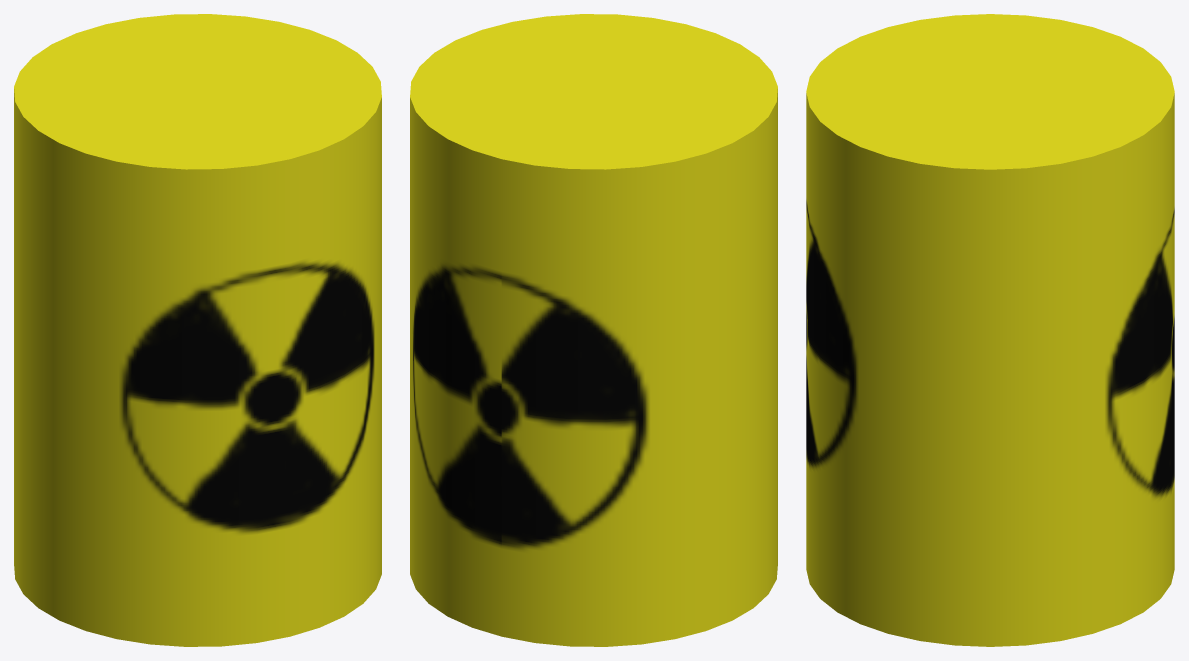
The model's file is hazardous_obj.fbx.
3 views of the same model, side by side, from view 1: azimuth 30°, elevation 25°; view 2: azimuth 150°, elevation 25°; view 3: azimuth 270°, elevation 25° (orthographic).
Parts seen in each view (by area): view 1: Cylinder; view 2: Cylinder; view 3: Cylinder.
Boxes of the visible parts, bbox=[...] form: Cylinder: bbox=[14, 14, 381, 646]; Cylinder: bbox=[410, 14, 777, 646]; Cylinder: bbox=[806, 14, 1174, 646].
Size of the model in its own units: 140 by 200 by 140.
